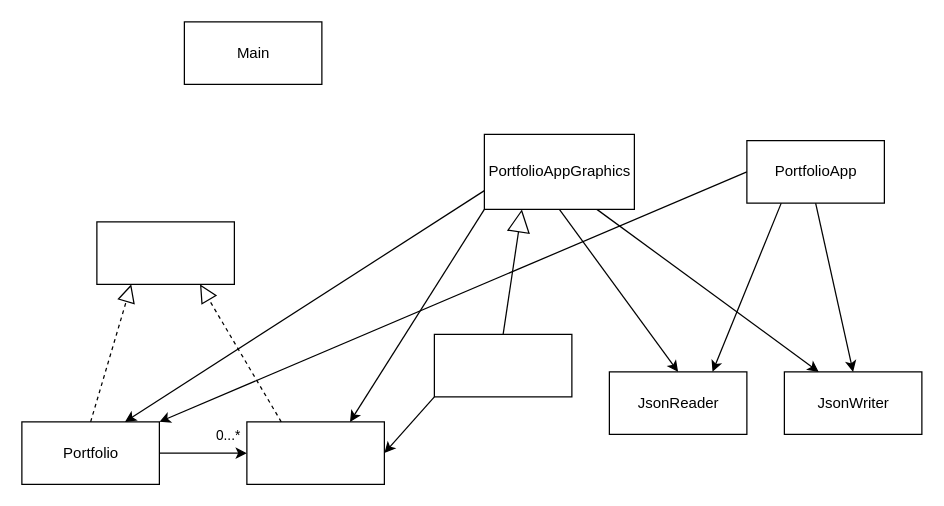
The diagram is 944 pixels wide and 506 high, and some of its shapes have lost their labels. The shapes that lost their labels are listed below. From the top down, each one's centre as x and y in pixels, then its label:
the point at 165,252: «interface» Writable
the point at 502,365: StockEditGraphics
the point at 315,452: Stock
